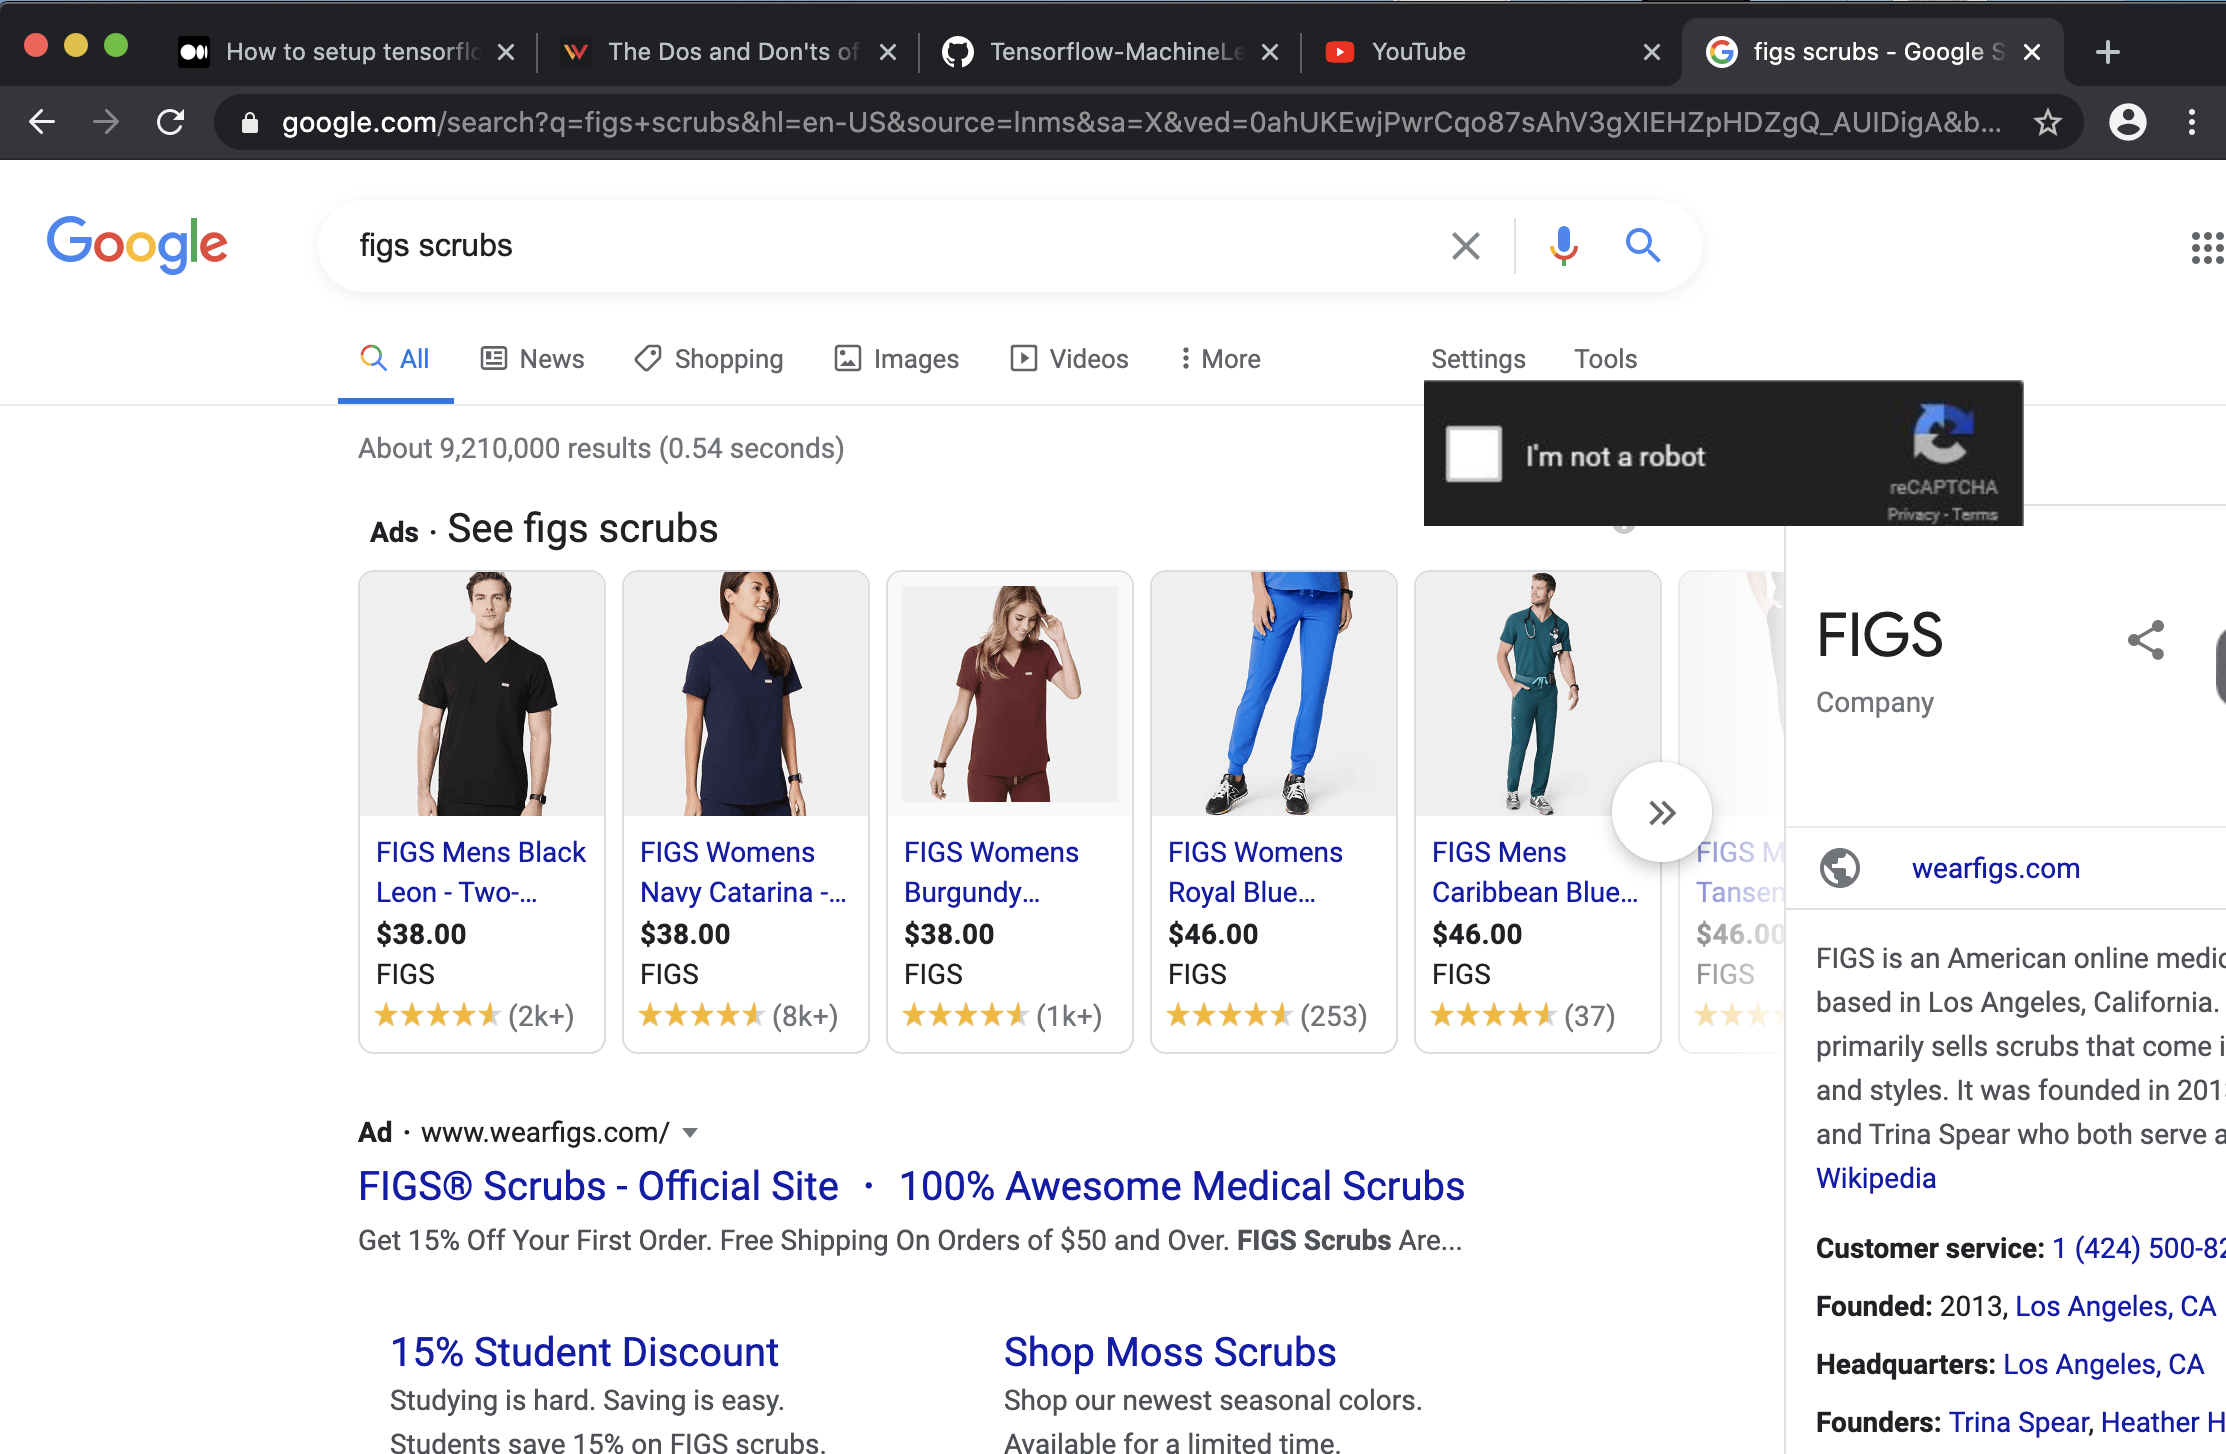captcha: (1413, 367, 2052, 545)
